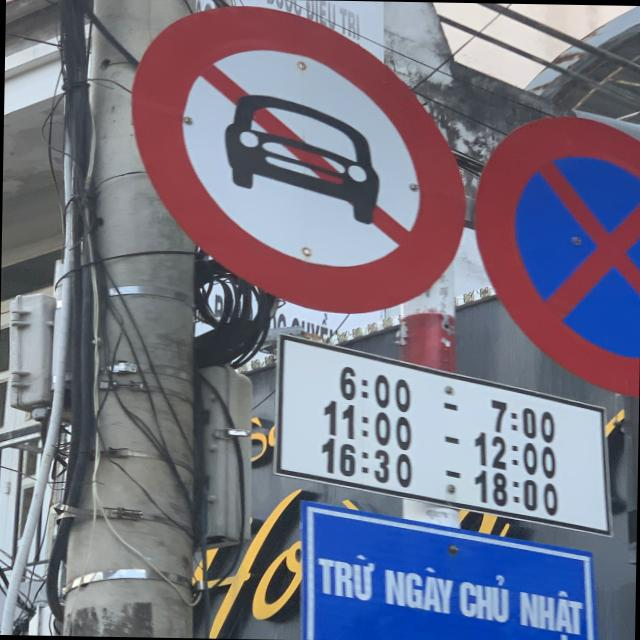Cam_Dung_Va_Dau_Xe: (471, 113, 640, 399)
Cam_O_To: (125, 3, 470, 314)
